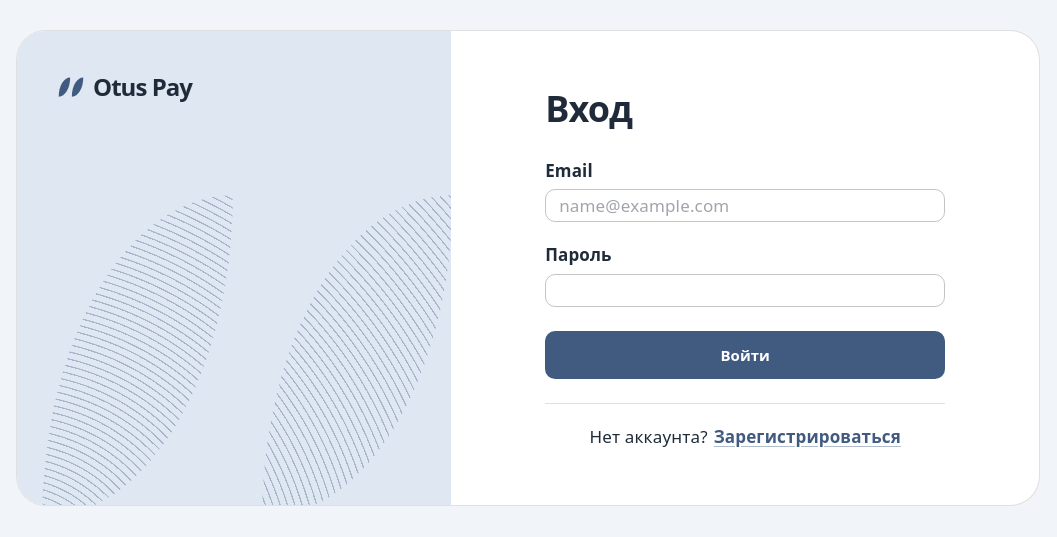
Test case: LoginPage › shows field errors on 400 response
Step 1. Type "test@example.com" into the field labelled "Email" → (745, 206), box [545,189,945,222]
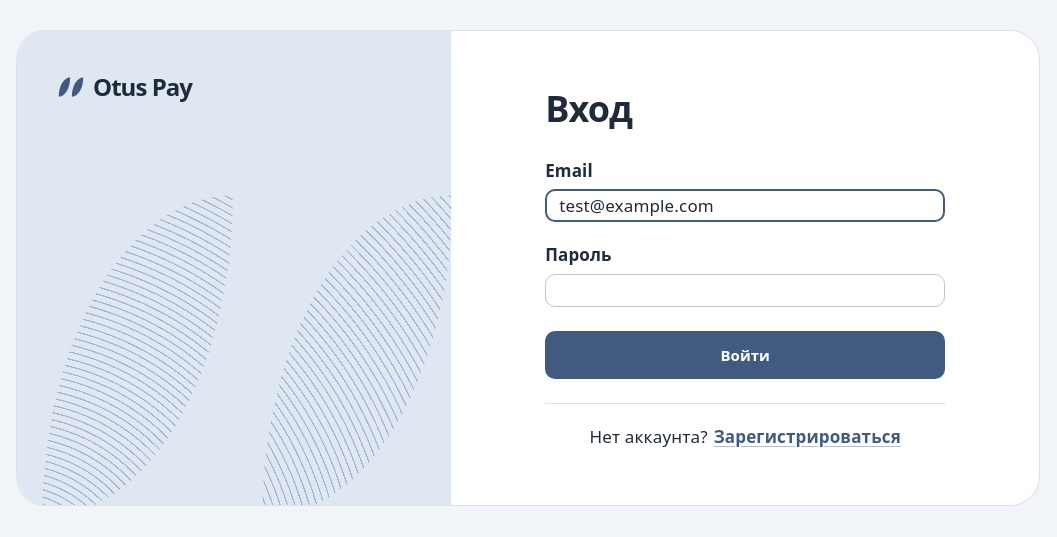
Step 2. Type "password123" into the password field labelled "Пароль" → (745, 290), box [545,274,945,307]
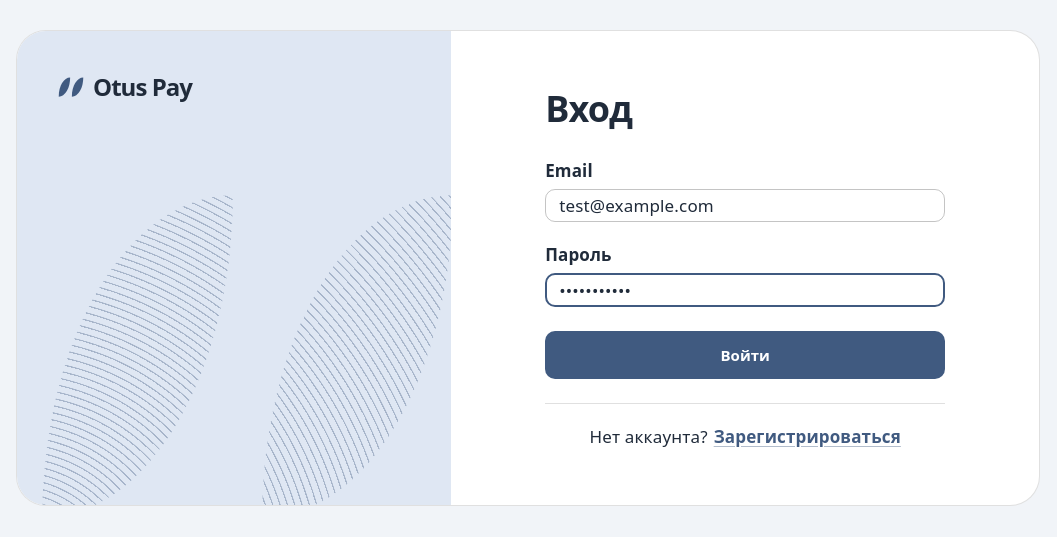
Step 3. Click the button "Войти" → (745, 355), box [545,331,945,379]
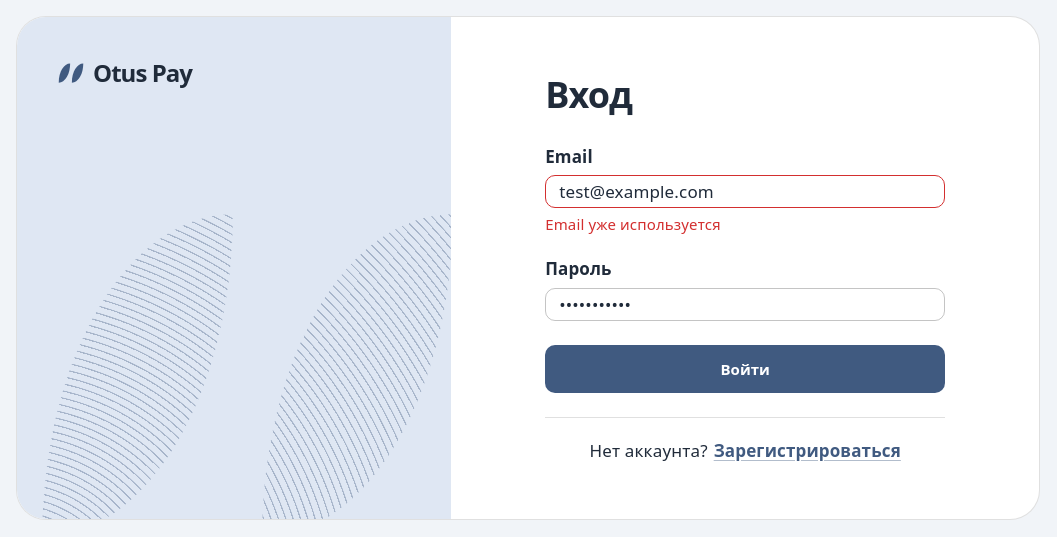
Now the text "Email уже используется" is shown, box [545,214,721,234]
